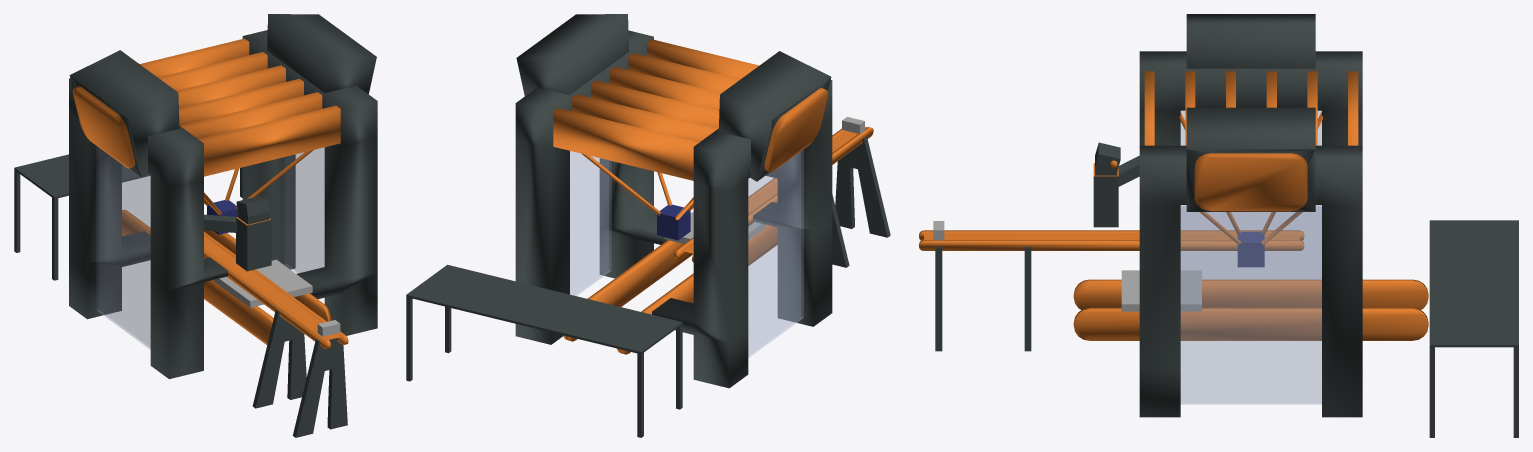
The model's file is stacker.glb.
3 views of the same model, side by side, from view 1: azimuth 30°, elevation 25°; view 2: azimuth 150°, elevation 25°; view 3: azimuth 270°, elevation 25° (orthographic). The views are drawn at different scales.
Parts seen in each view (by area): view 1: БАЗА, маленький конвеер, мини манипулятор, Стол, Большой груз, тяги экструдера, Экструдер; view 2: БАЗА, Стол, маленький конвеер, Экструдер, тяги экструдера; view 3: БАЗА, Стол, маленький конвеер, мини манипулятор, Большой груз, Экструдер, тяги экструдера.
Part boxes in pixels (box(x1,y1,x2,y2)): БАЗА: box(69, 14, 377, 379); маленький конвеер: box(204, 232, 348, 437); мини манипулятор: box(204, 196, 271, 271); Стол: box(14, 154, 242, 280); Большой груз: box(214, 259, 312, 307); тяги экструдера: box(204, 150, 313, 214); Экструдер: box(207, 200, 237, 234); БАЗА: box(515, 14, 832, 388); Стол: box(406, 264, 682, 437); маленький конвеер: box(674, 126, 890, 267); Экструдер: box(657, 204, 690, 240); тяги экструдера: box(581, 153, 693, 219); БАЗА: box(1073, 14, 1428, 417); Стол: box(1429, 220, 1518, 437); маленький конвеер: box(919, 230, 1304, 351); мини манипулятор: box(1093, 142, 1139, 227); Большой груз: box(1121, 270, 1201, 311); Экструдер: box(1237, 231, 1264, 267); тяги экструдера: box(1179, 111, 1323, 244).
Bounding box in the file's own units: 3.09 × 2.91 × 5.38.
